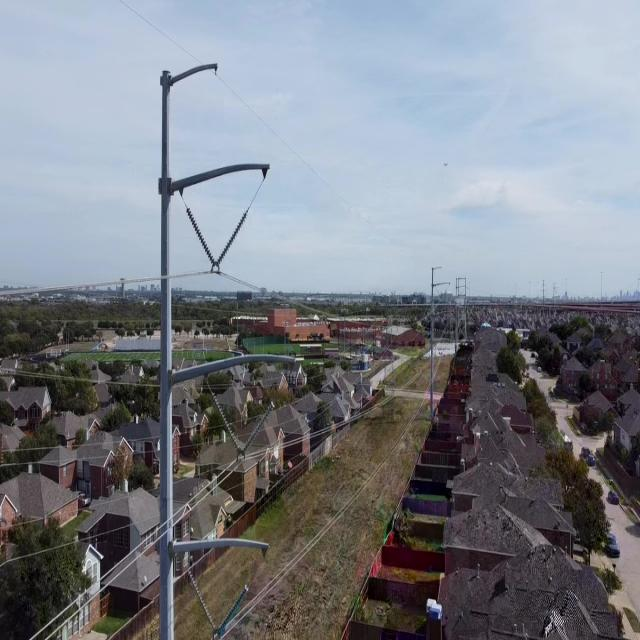正常绝缘子: (206, 201, 254, 284), (233, 392, 283, 467), (180, 556, 223, 640), (206, 380, 247, 466), (209, 574, 257, 640), (182, 199, 222, 277)
